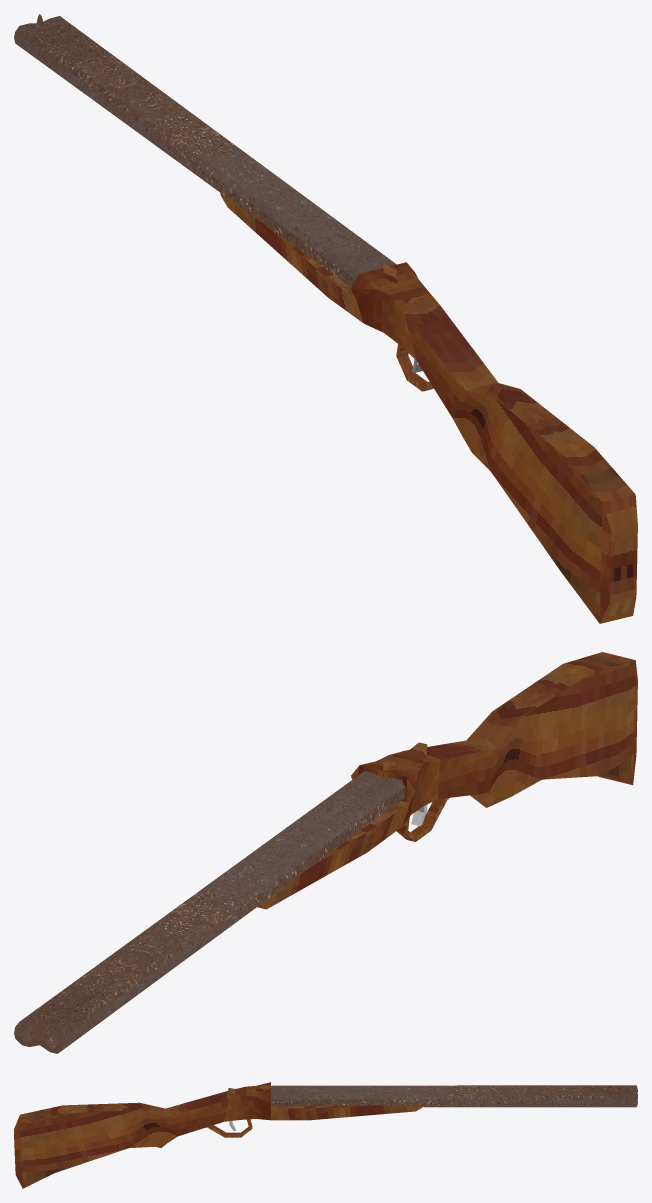
Rendered from Shotgun.glb.
The picture shows the model from 3 angles, top to bottom: view 1: azimuth 30°, elevation 25°; view 2: azimuth 150°, elevation 25°; view 3: azimuth 270°, elevation 25°; orthographic projection. The views are drawn at different scales.
Parts seen in each view (by area): view 1: Base, Barrel; view 2: Base, Barrel; view 3: Base, Barrel.
Boxes of the visible parts, x1,y1,x2,y2 form: Base: [220, 193, 637, 623]; Barrel: [14, 14, 396, 287]; Base: [257, 652, 637, 909]; Barrel: [14, 771, 405, 1053]; Base: [14, 1082, 422, 1188]; Barrel: [271, 1085, 637, 1107].
Bounding box in the file's own units: 0.2845 × 0.7836 × 4.48.
